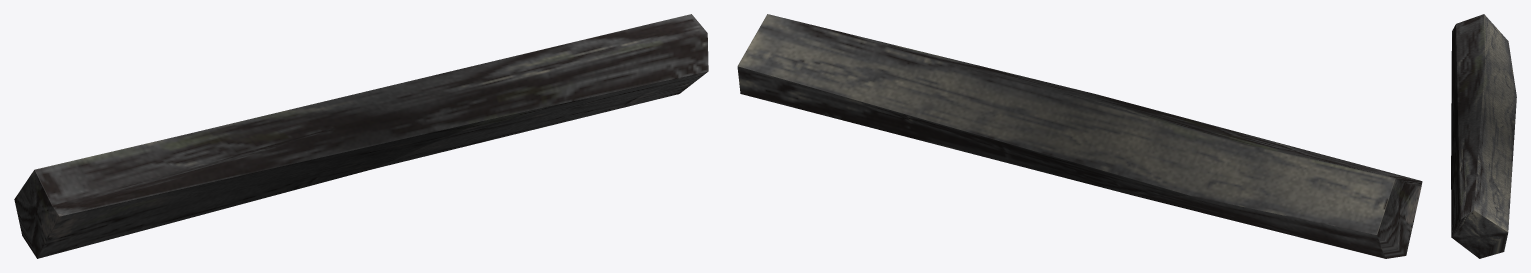
File: snow_old_woodlog.glb
The picture shows the model from 3 angles, left to right: view 1: azimuth 30°, elevation 25°; view 2: azimuth 150°, elevation 25°; view 3: azimuth 270°, elevation 25°; orthographic projection. The views are drawn at different scales.
Visible parts, largest first — view 1: _MeshInstance3D_15; view 2: _MeshInstance3D_15; view 3: _MeshInstance3D_15.
Part boxes in pixels (box(x1,y1,x2,y2)): _MeshInstance3D_15: box(14, 14, 708, 258); _MeshInstance3D_15: box(737, 14, 1422, 258); _MeshInstance3D_15: box(1451, 14, 1516, 258).
Size of the model in its own units: 2 by 0.2504 by 0.2754.
1 material, 1 textured.
